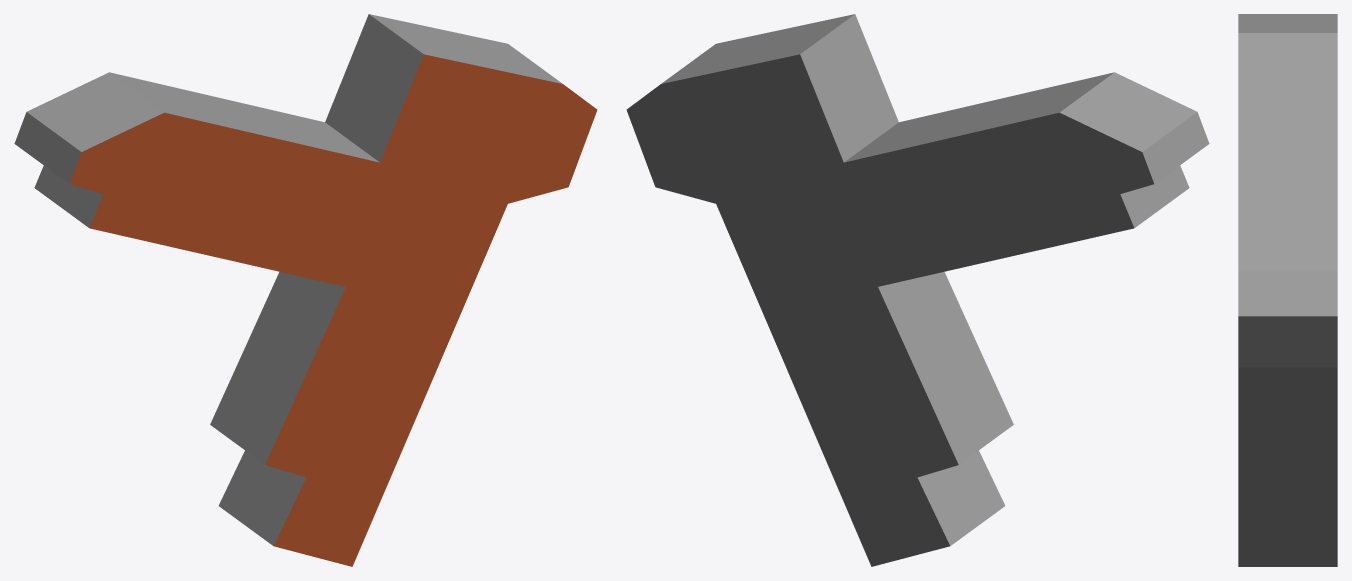
Rendered from construction_6824_assumed_A_Casa_h6m.obj.
3 renders of one model, left to right at view 1: azimuth 30°, elevation 25°; view 2: azimuth 150°, elevation 25°; view 3: azimuth 270°, elevation 25°, orthographic. The views are drawn at different scales.
Parts seen in each view (by area): view 1: construction_6824_assumed_A_Casa; view 2: construction_6824_assumed_A_Casa; view 3: construction_6824_assumed_A_Casa.
Boxes of the visible parts, box(x1,y1,x2,y2) form: construction_6824_assumed_A_Casa: box(14, 14, 597, 566); construction_6824_assumed_A_Casa: box(626, 14, 1209, 566); construction_6824_assumed_A_Casa: box(1238, 14, 1337, 566).
Size of the model in its own units: 33.17 by 30.04 by 6.
